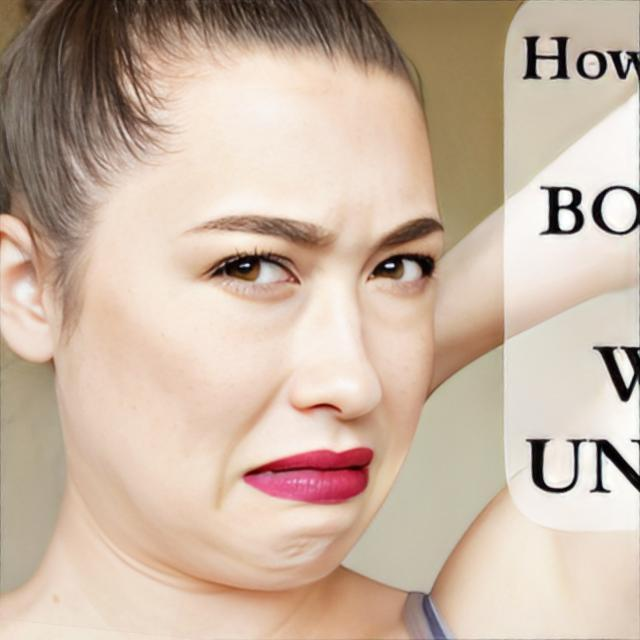disgust: (54, 41, 446, 594)
